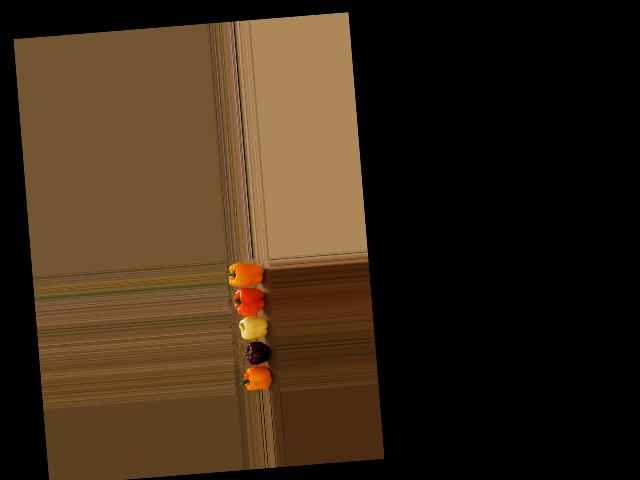bell_pepper: (238, 367, 278, 393)
